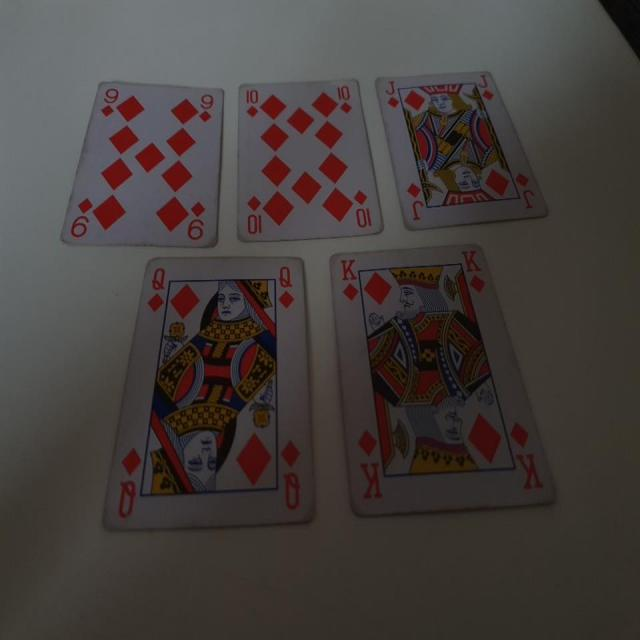10 Diamonds: (235, 80, 387, 240)
9 Diamonds: (55, 80, 226, 247)
J Diamonds: (374, 66, 551, 231)
K Diamonds: (326, 243, 562, 519)
Q Diamonds: (99, 254, 318, 529)
